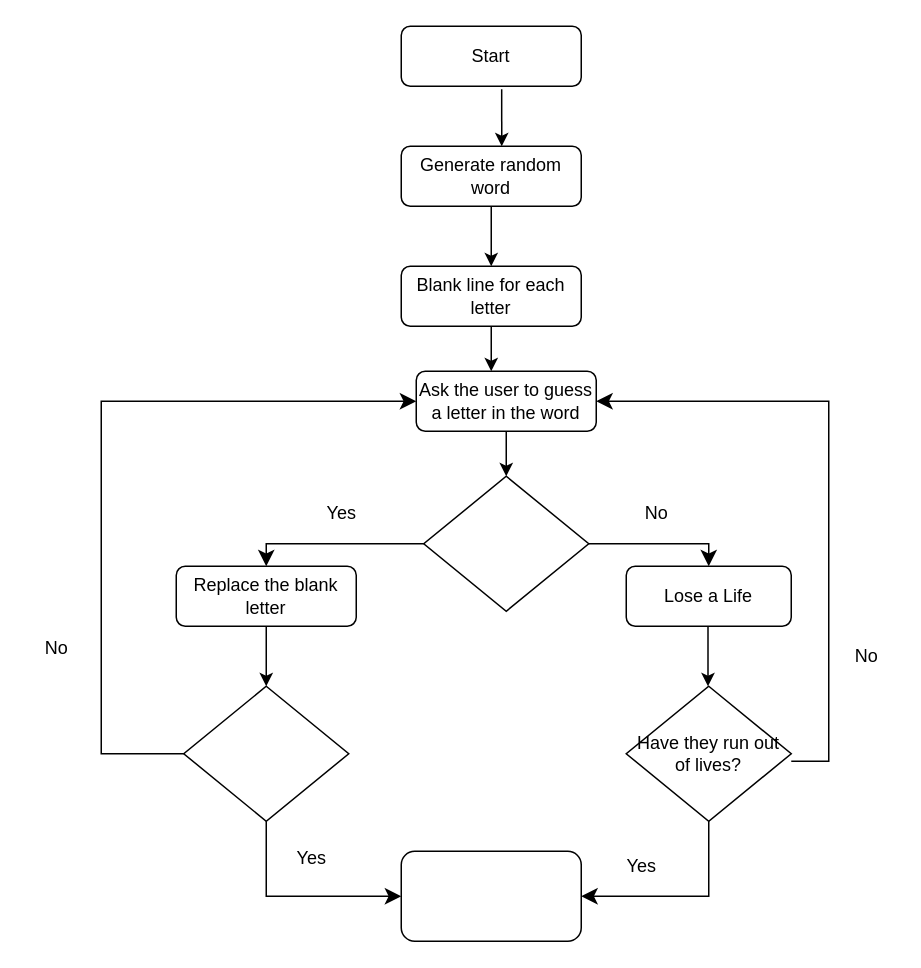
This 921x968 diagram has some shape labels left out. The box of each missing label's shape, as (x1, y1, x2, y2) in pixels:
Are all the blanks filled?: (182, 685, 349, 821)
Game over: (400, 850, 581, 941)
Is the guessed letter in the word: (422, 475, 589, 611)
